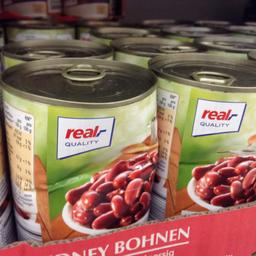beans: (1, 60, 158, 244), (151, 52, 255, 230)
